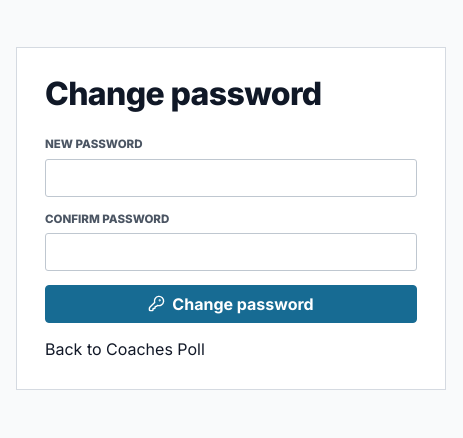
Test case: ChangePasswordPage › rejects expired sessions
Type "new-password" into the password field labelled "New password" at {"x": 231, "y": 178}, box x1=45 y1=159 x2=417 y2=197
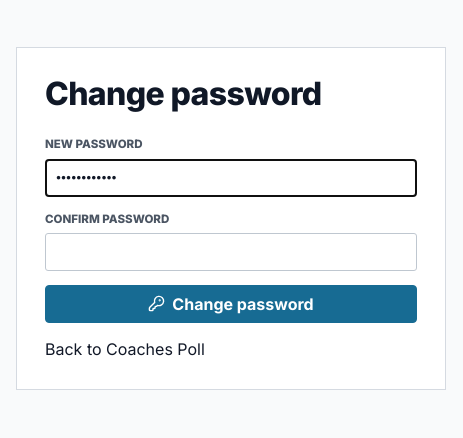
Type "new-password" into the password field labelled "Confirm password" at {"x": 231, "y": 252}, box x1=45 y1=233 x2=417 y2=271
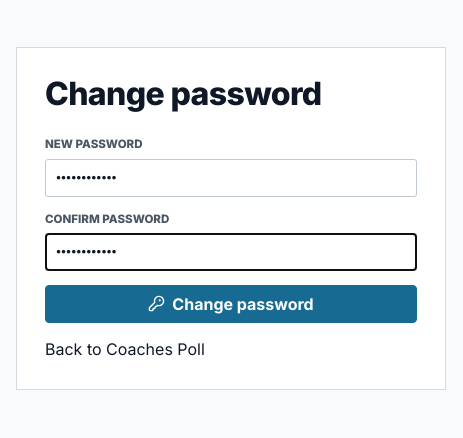
Click the button "Change password" at {"x": 231, "y": 304}, box x1=45 y1=285 x2=417 y2=323
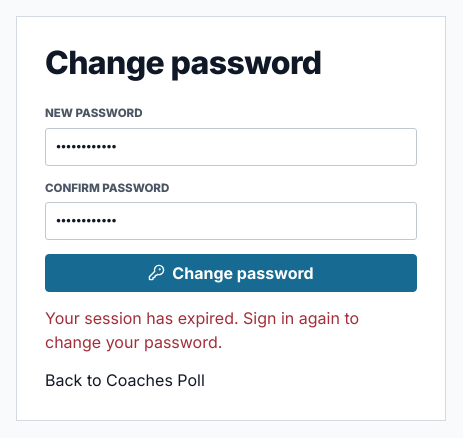
Expected: the message shows "session has expired", x1=45 y1=308 x2=359 y2=352
